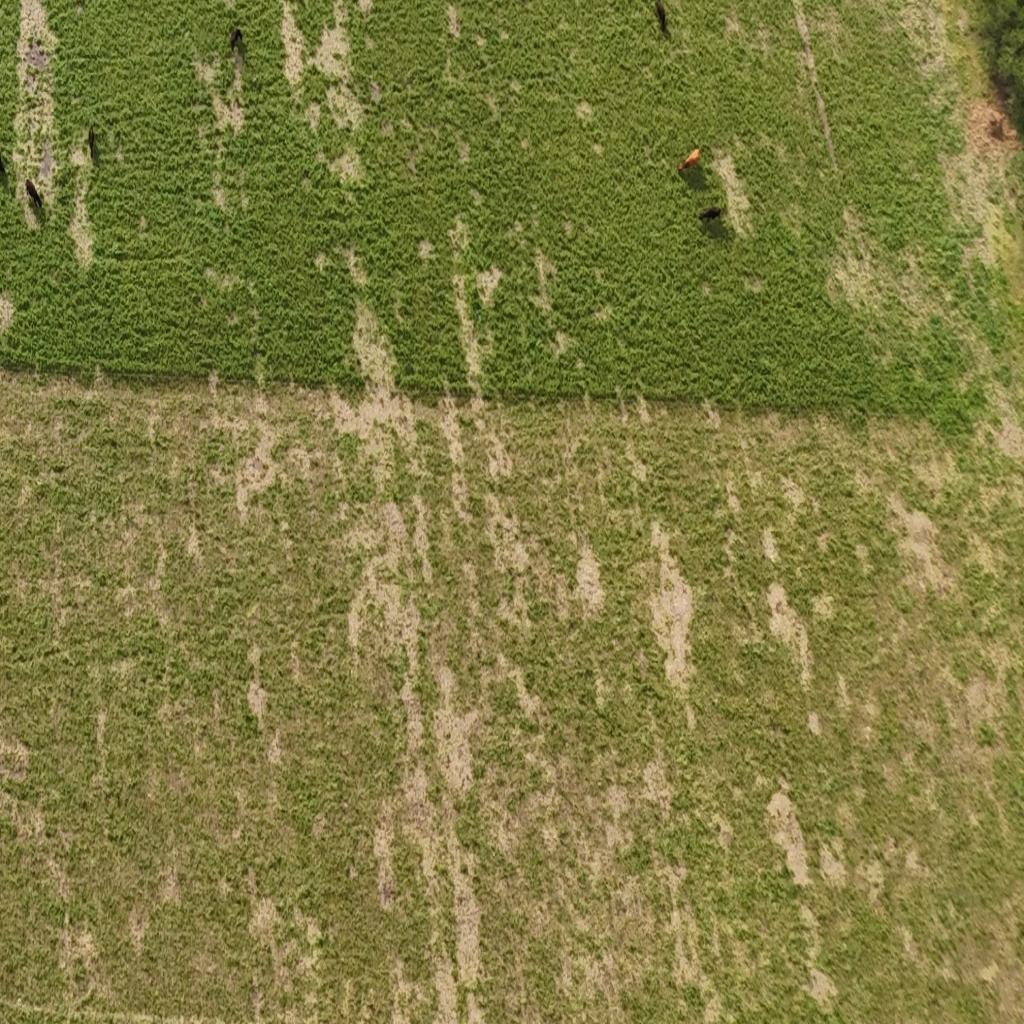cow: (678, 147, 706, 180), (26, 178, 44, 214), (229, 26, 245, 63), (653, 1, 669, 36), (698, 205, 722, 225), (0, 144, 10, 184), (88, 124, 98, 160), (75, 0, 84, 12)
